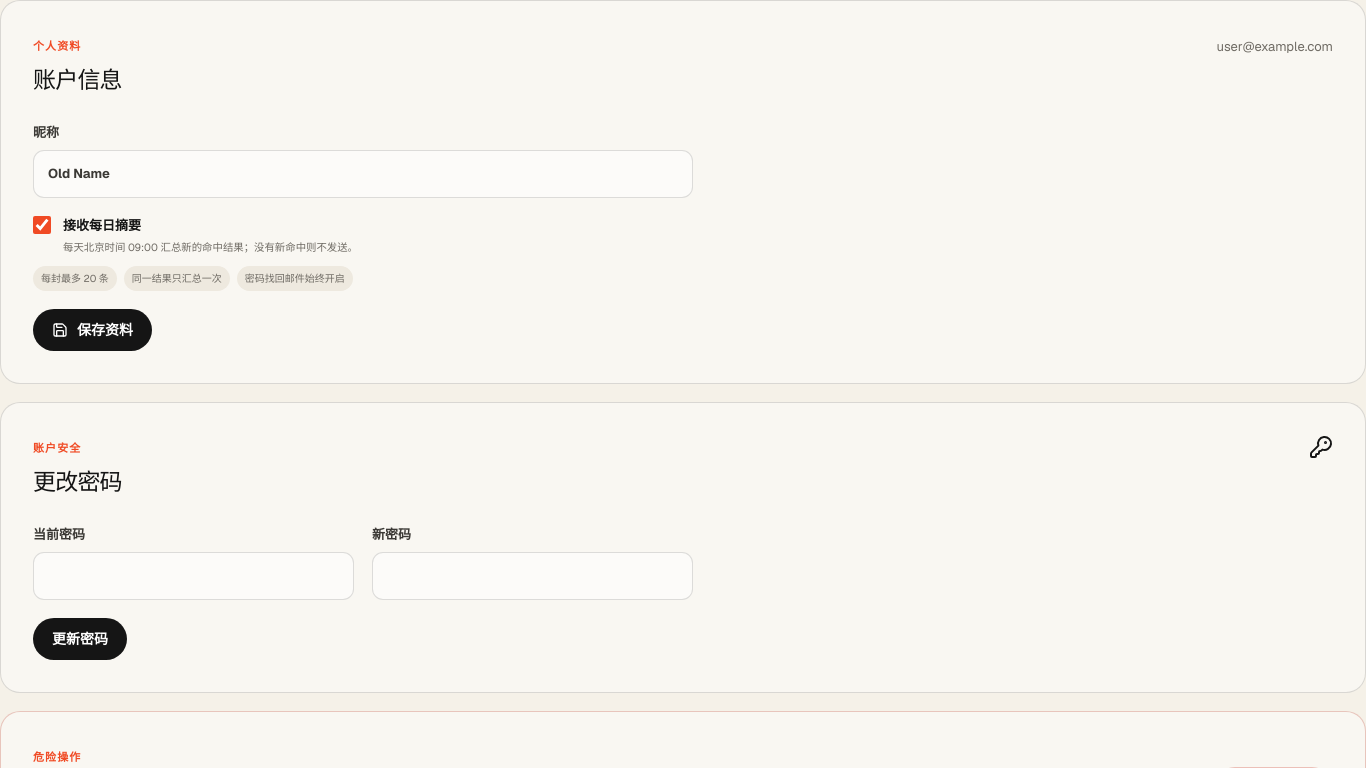
it: ProfileSettings › updates the profile and digest preference
This screenshot has width=1366, height=768.
Expected: the text "同一结果只汇总一次" is shown, [124,266,230,291]
Replace the text in the field labelled "昵称" with "New Name" at (363, 174), box [33,150,693,198]
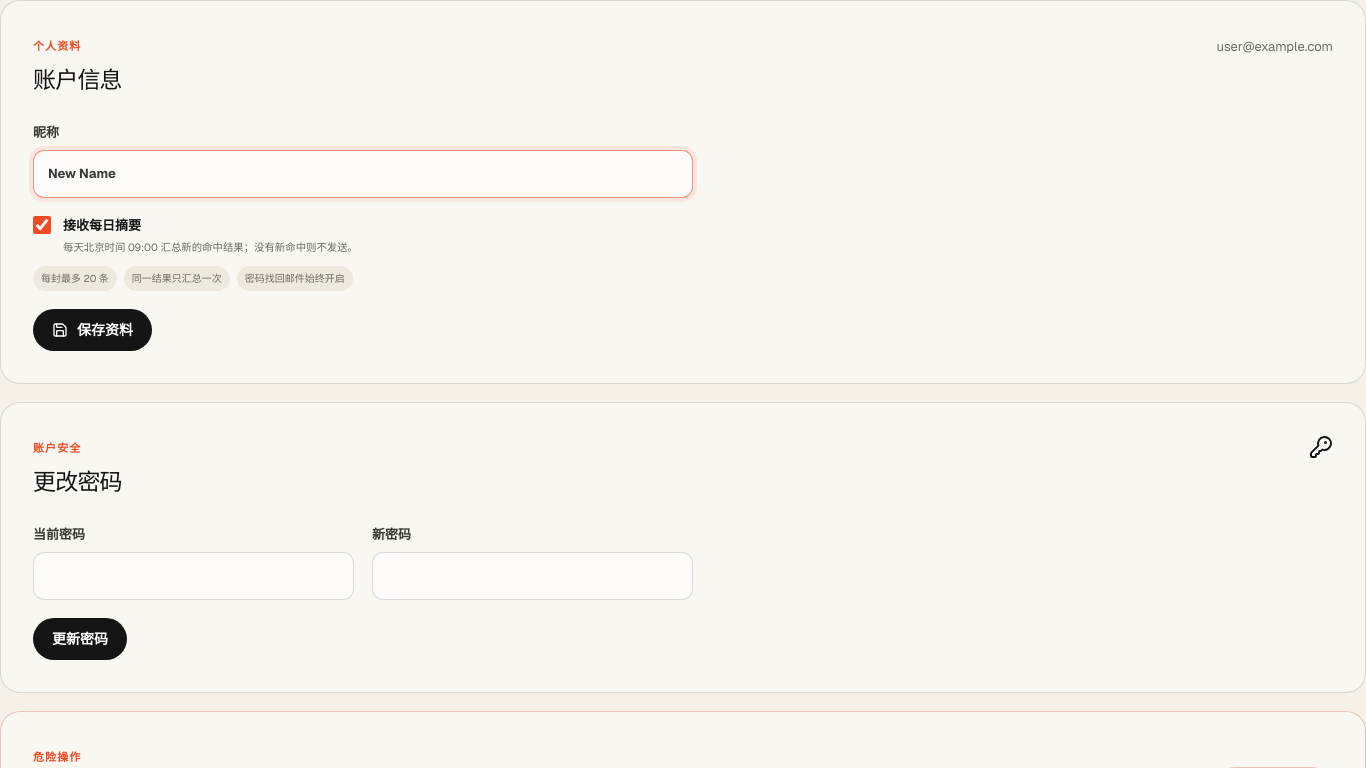
Click the checkbox labelled "接收每日摘要" at (42, 225), box [33,216,51,234]
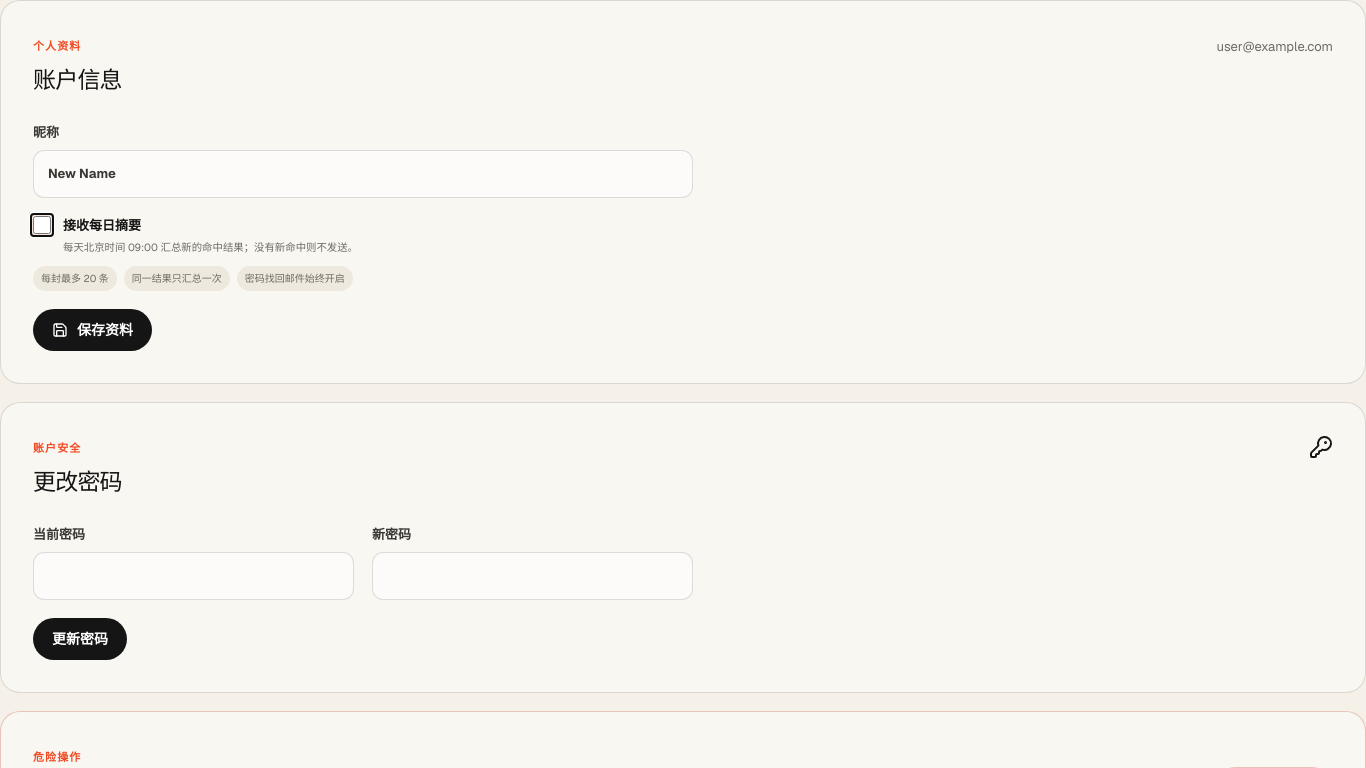
Click the button "保存资料" at (92, 330), box [33,309,152,351]
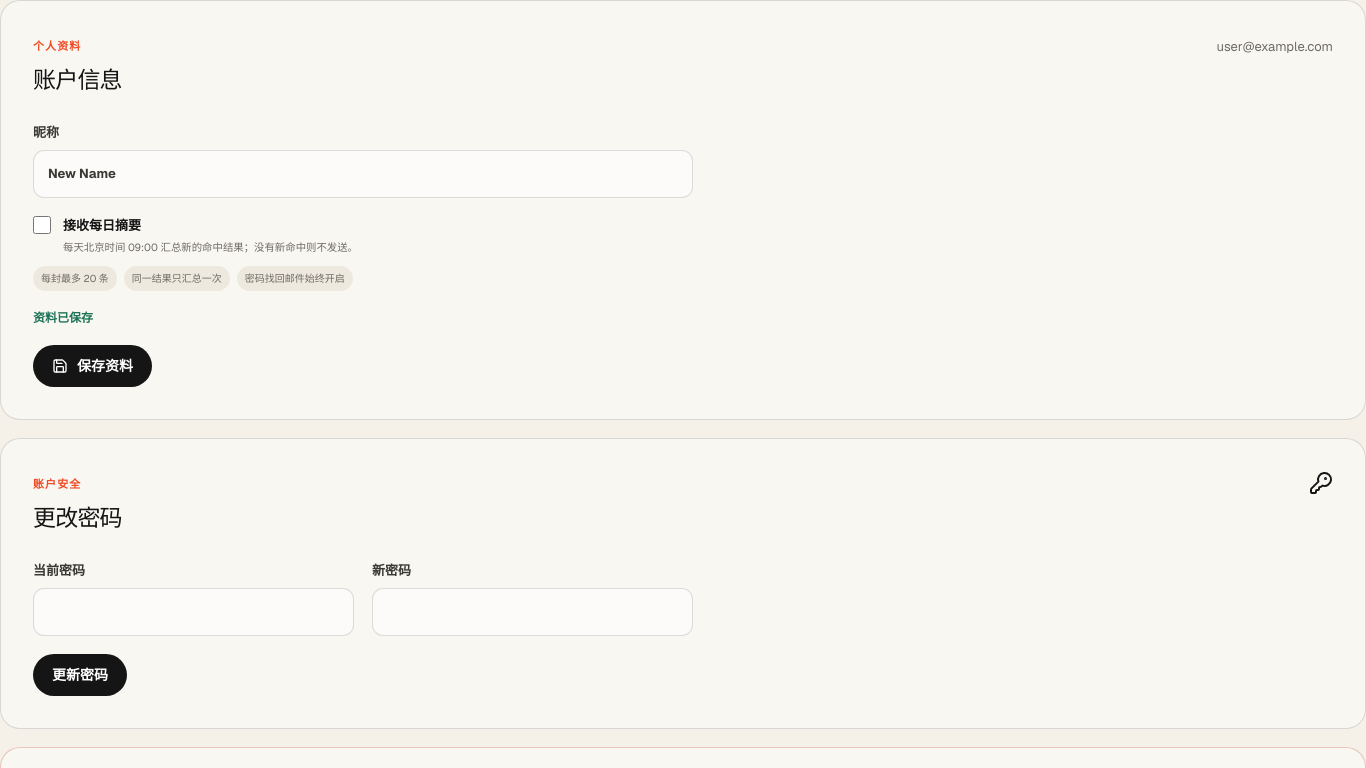
Expected: the text "资料已保存" is shown, [33,310,93,326]
